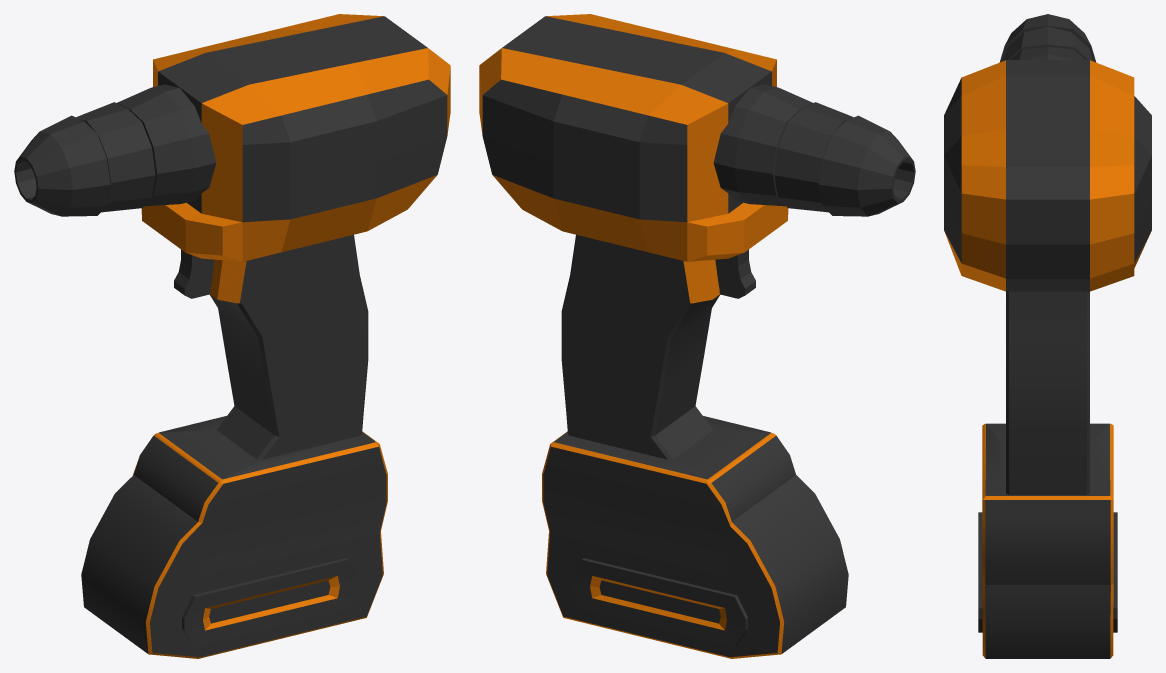
Rendered from Drill.fbx.
3 renders of one model, left to right at view 1: azimuth 30°, elevation 25°; view 2: azimuth 150°, elevation 25°; view 3: azimuth 270°, elevation 25°, orthographic. The views are drawn at different scales.
Visible parts, largest first — view 1: pCylinder2; view 2: pCylinder2; view 3: pCylinder2.
Boxes of the visible parts, <box> form: pCylinder2: <box>14,14,450,658</box>; pCylinder2: <box>479,14,915,658</box>; pCylinder2: <box>944,14,1151,658</box>.
Size of the model in its own units: 21.47 by 28.11 by 9.94.
